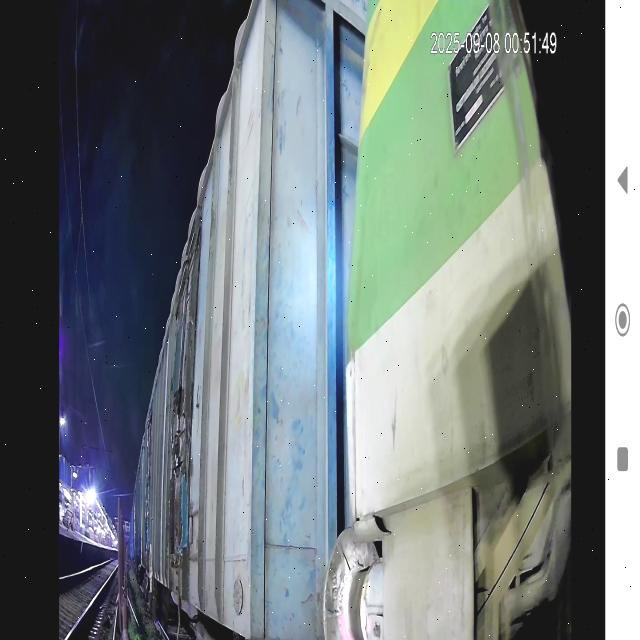coach: (139, 10, 270, 640)
